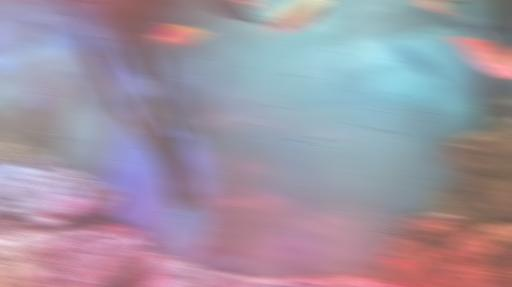Fish: (255, 0, 327, 38), (450, 31, 511, 72), (149, 24, 214, 48), (413, 0, 453, 16), (387, 256, 408, 277), (252, 0, 273, 12), (33, 0, 41, 5), (239, 275, 242, 286), (409, 281, 415, 286), (378, 283, 382, 286)
